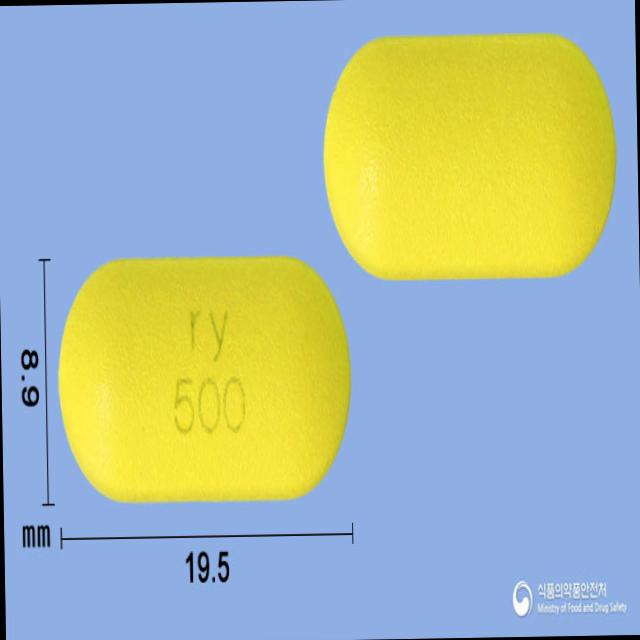Reyon Clarithromycin Tab: (54, 252, 353, 506)
